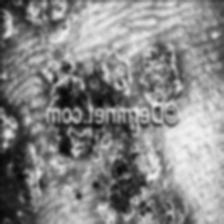Toxin: (100, 139, 158, 220), (52, 75, 94, 152), (138, 43, 182, 107)
